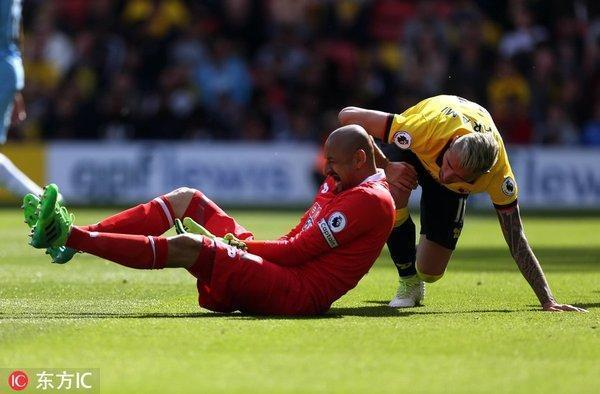Fall-Detected: (331, 86, 578, 309)
